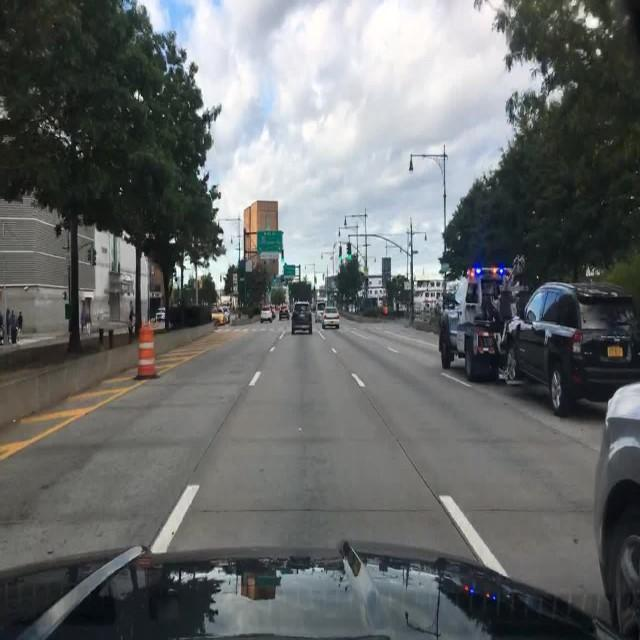normal: (504, 287, 639, 422), (292, 301, 315, 334), (321, 308, 341, 329), (262, 309, 276, 322)
